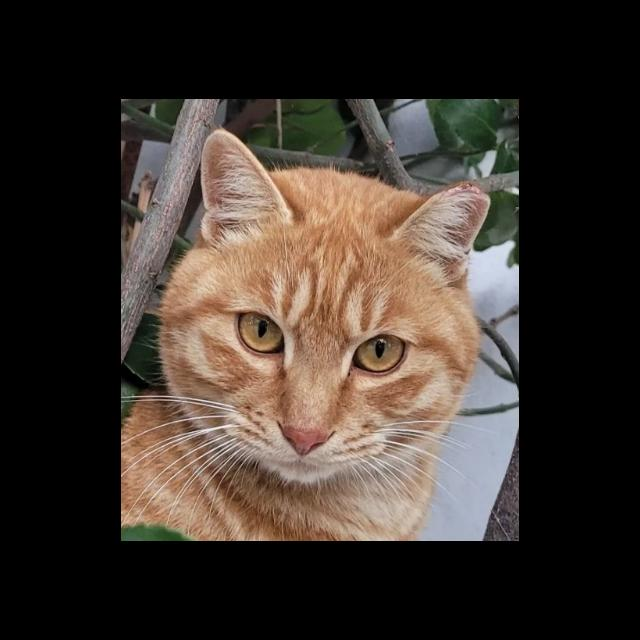animals: (155, 126, 494, 493)
